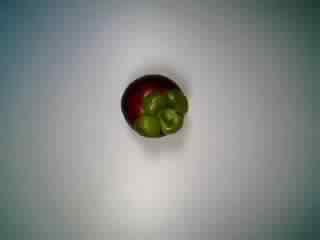mangosteen: (116, 72, 191, 139)
